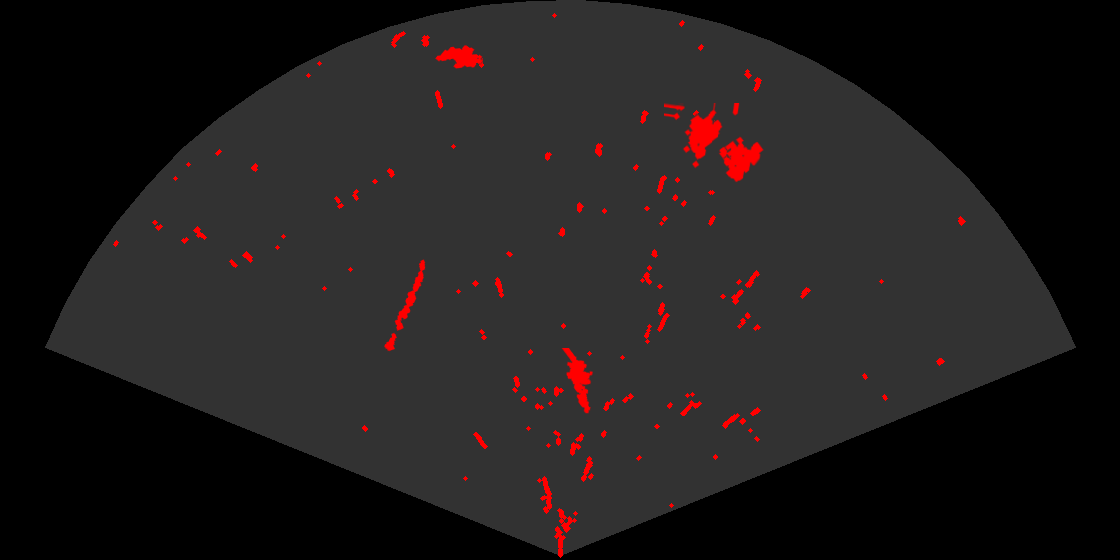AUV: (434, 44, 484, 70)
cage: (664, 103, 765, 184)
chain: (383, 258, 427, 353)
frogman: (560, 348, 595, 415)
